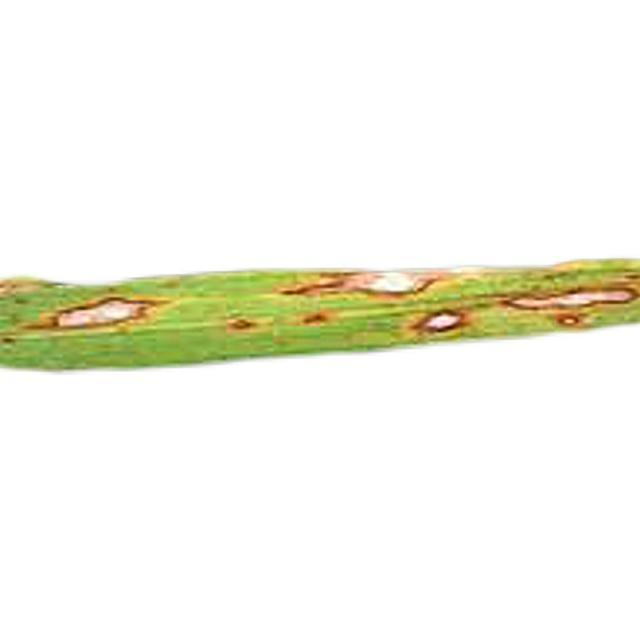Leaf_Blast: (18, 276, 158, 354), (286, 258, 466, 306), (500, 272, 634, 327), (409, 289, 484, 348), (223, 314, 382, 337)
